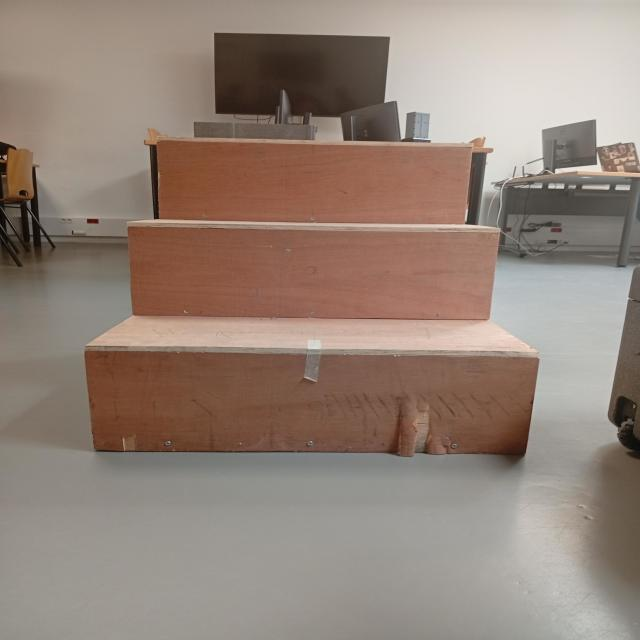Stairs: (57, 130, 608, 500)
